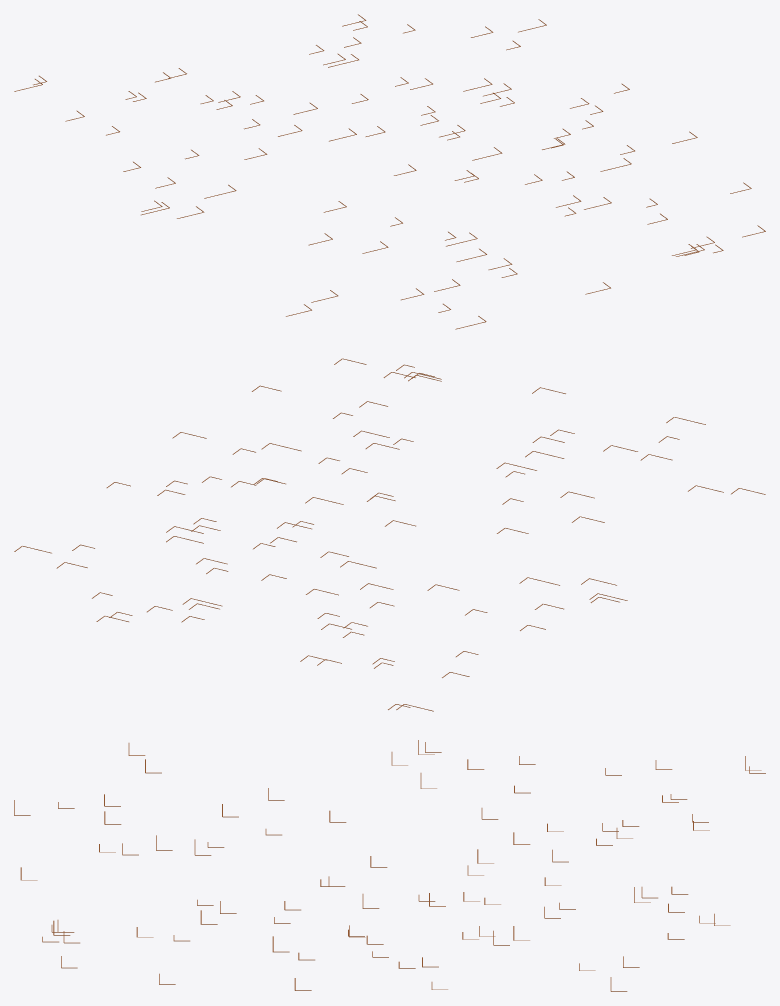
3 views of the same model, one above another, from view 1: azimuth 30°, elevation 25°; view 2: azimuth 150°, elevation 25°; view 3: azimuth 270°, elevation 25° (orthographic). The views are drawn at different scales.
Visible parts, largest first — view 1: LAYER_08__Copper; view 2: LAYER_08__Copper; view 3: LAYER_08__Copper.
Boxes of the visible parts, bbox=[...] form: LAYER_08__Copper: bbox=[14, 14, 765, 329]; LAYER_08__Copper: bbox=[14, 358, 765, 711]; LAYER_08__Copper: bbox=[14, 740, 765, 991].
Bounding box in the file's own units: 218 × 0.09 × 275.
